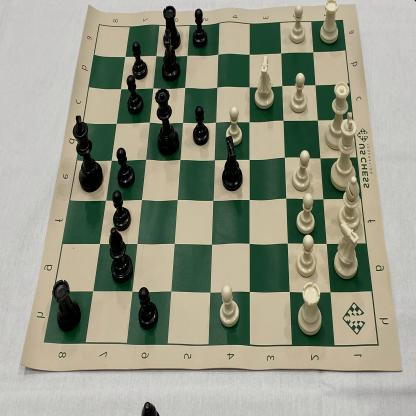black-king: (72, 111, 104, 195)
black-knight: (104, 226, 135, 285)
black-pawn: (136, 284, 163, 330), (110, 187, 134, 233), (115, 145, 136, 190), (190, 6, 210, 50), (190, 102, 210, 146), (124, 74, 144, 116), (130, 40, 150, 80)
black-rook: (154, 85, 181, 160), (51, 276, 83, 333), (161, 2, 182, 51)
white-bishop: (336, 173, 364, 231)
white-king: (328, 110, 360, 192)
white-knight: (333, 219, 363, 280), (252, 53, 277, 110), (160, 27, 182, 82)
white-pawn: (218, 281, 241, 329), (295, 233, 319, 278), (288, 71, 310, 115), (295, 192, 318, 234), (292, 150, 313, 193), (224, 104, 244, 147)
white-queen: (324, 79, 352, 151), (220, 135, 245, 192)
white-rook: (296, 280, 325, 338), (318, 0, 341, 44), (288, 3, 308, 44)
